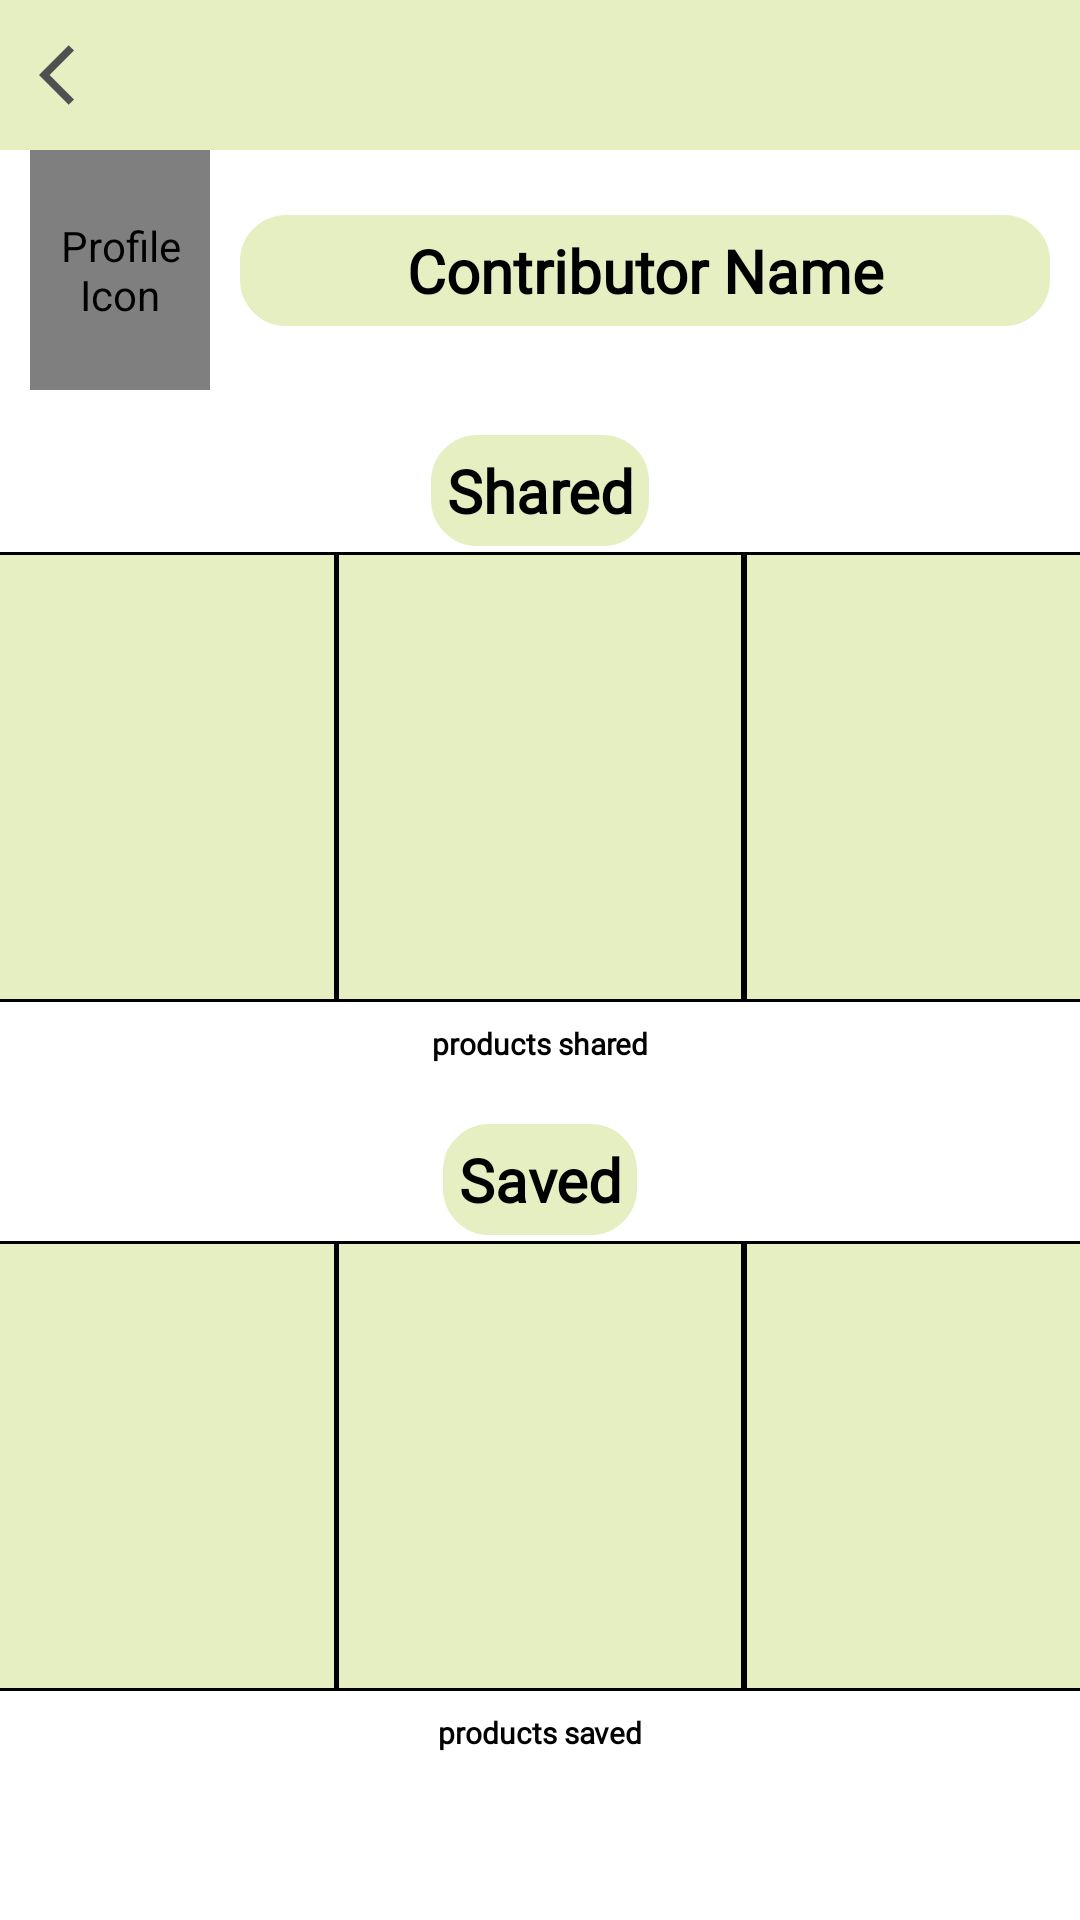

Screen size 1080x1920. Icon name, then its box in pixels as (x1, y1, x2, y2):
arrow back: (39, 45, 74, 105)
